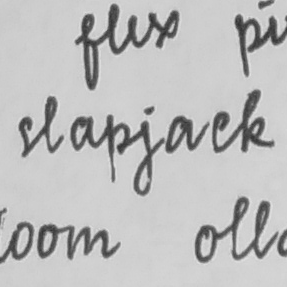a: (162, 112, 197, 155), (68, 113, 97, 152)
c: (207, 109, 233, 155)
j: (130, 102, 158, 199)
k: (237, 86, 278, 154)
l: (40, 94, 66, 155)
p: (102, 112, 134, 185)
s: (16, 115, 36, 159)
